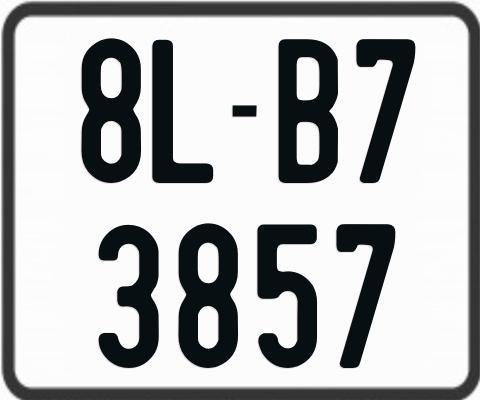3: (97, 223, 159, 369)
5: (254, 222, 314, 370)
7: (336, 222, 400, 371), (354, 39, 419, 185)
8: (176, 220, 241, 366), (79, 35, 139, 182)
B: (277, 39, 337, 189)
L: (152, 39, 213, 184)
